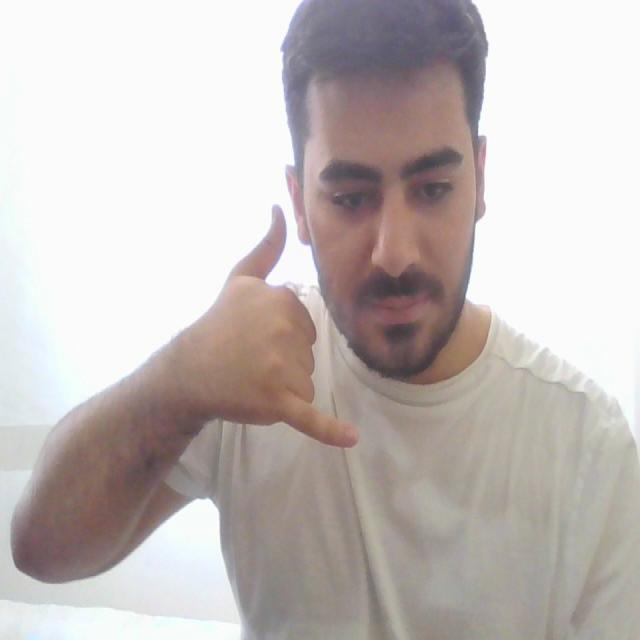Telefon: (226, 191, 365, 459)
